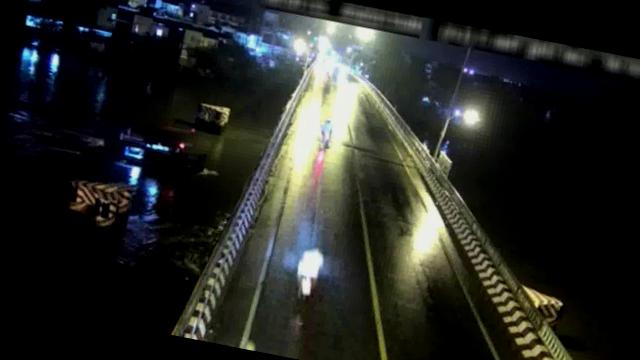Bike: (316, 116, 338, 150)
